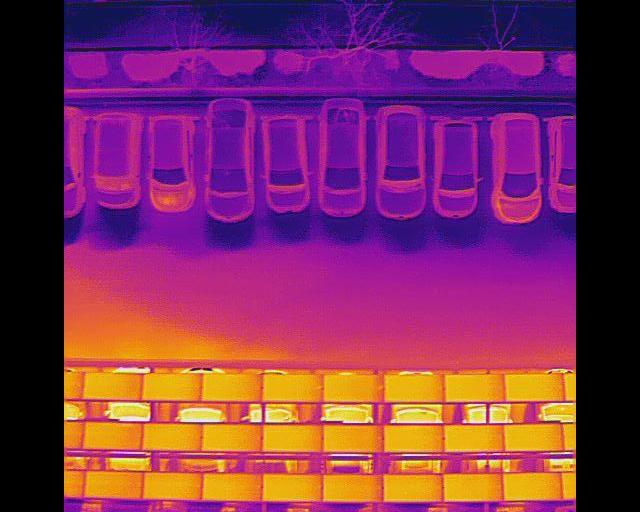No-Anomaly: (144, 470, 203, 500), (204, 472, 264, 500), (383, 472, 443, 500), (504, 373, 566, 400), (142, 422, 201, 450), (201, 424, 262, 451), (263, 473, 324, 500), (324, 374, 385, 401), (443, 473, 504, 500), (264, 424, 323, 451), (384, 424, 443, 451), (384, 374, 443, 401), (445, 425, 504, 452), (83, 421, 142, 448), (85, 470, 144, 497), (202, 374, 263, 400), (443, 374, 504, 400), (324, 473, 382, 500), (142, 373, 202, 399), (504, 424, 564, 450), (324, 425, 383, 451), (505, 473, 564, 499), (83, 373, 142, 399), (261, 375, 322, 400)
